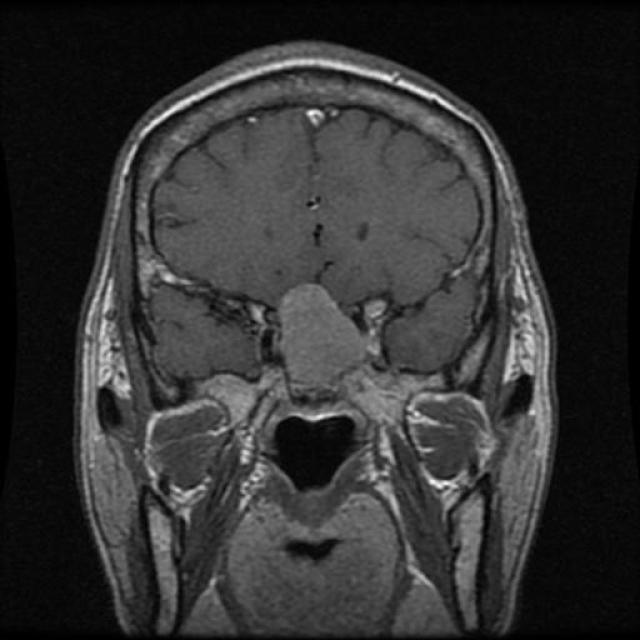pituitary: (266, 284, 394, 394)
